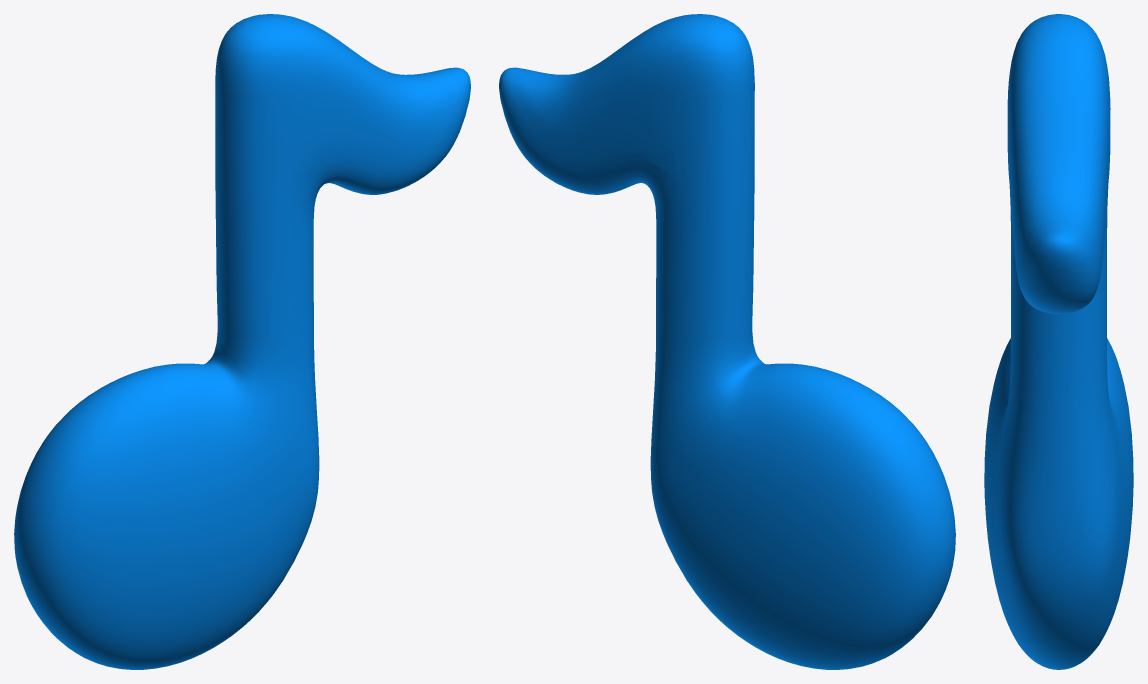
The model's file is music-20.glb.
3 renders of one model, left to right at view 1: azimuth 30°, elevation 25°; view 2: azimuth 150°, elevation 25°; view 3: azimuth 270°, elevation 25°, orthographic. The views are drawn at different scales.
Visible parts, largest first — view 1: Cartoon Music Note; view 2: Cartoon Music Note; view 3: Cartoon Music Note.
Boxes of the visible parts, x1=… form: Cartoon Music Note: x1=14, y1=14, x2=470, y2=669; Cartoon Music Note: x1=499, y1=14, x2=955, y2=669; Cartoon Music Note: x1=984, y1=14, x2=1133, y2=669.
Size of the model in its own units: 0.6242 by 0.826 by 0.1625.
